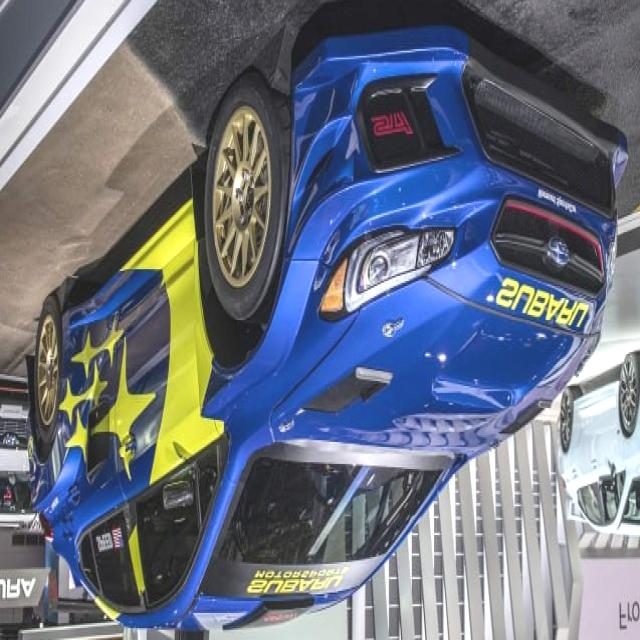blue: (38, 0, 639, 623)
